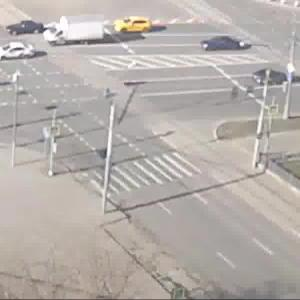car: (43, 17, 106, 46), (196, 36, 249, 59), (112, 18, 155, 38), (1, 40, 31, 67), (3, 18, 40, 38), (253, 70, 293, 87)
